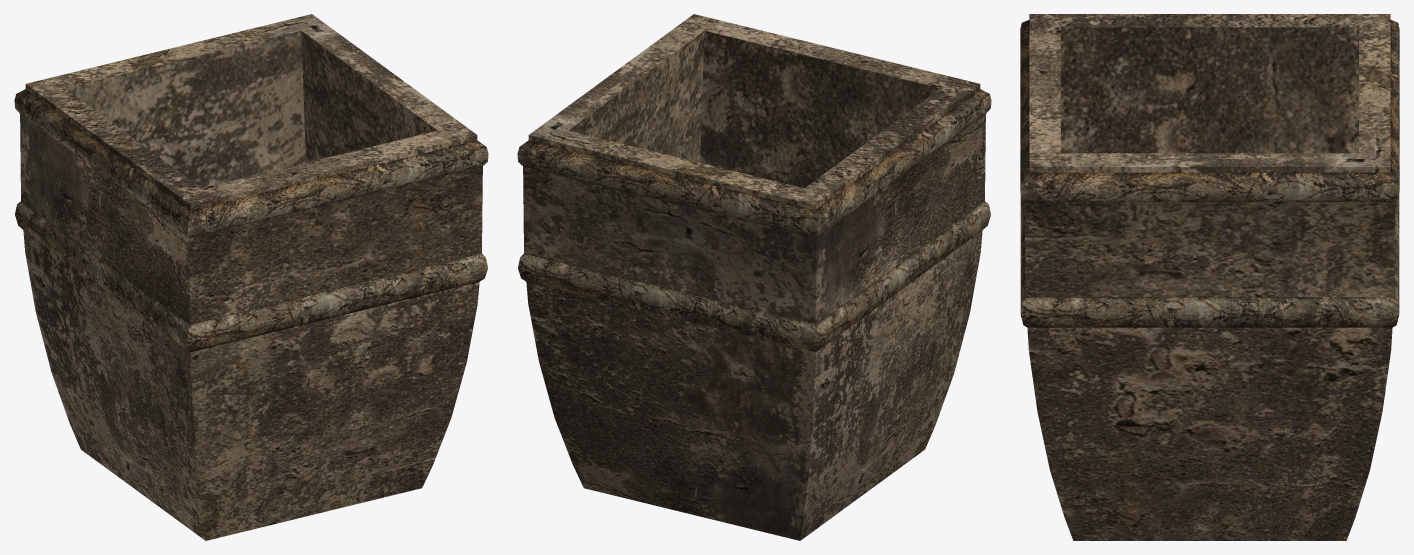
The model's file is materials_5_pot_14.fbx.
3 renders of one model, left to right at view 1: azimuth 30°, elevation 25°; view 2: azimuth 150°, elevation 25°; view 3: azimuth 270°, elevation 25°, orthographic. The views are drawn at different scales.
Visible parts, largest first — view 1: materials_5_pot_14; view 2: materials_5_pot_14; view 3: materials_5_pot_14.
Boxes of the visible parts, x1,y1,x2,y2 form: materials_5_pot_14: (14,14,488,540); materials_5_pot_14: (517,14,991,540); materials_5_pot_14: (1020,14,1399,540).
Bounding box in the file's own units: 25.77 × 29.44 × 25.77.
